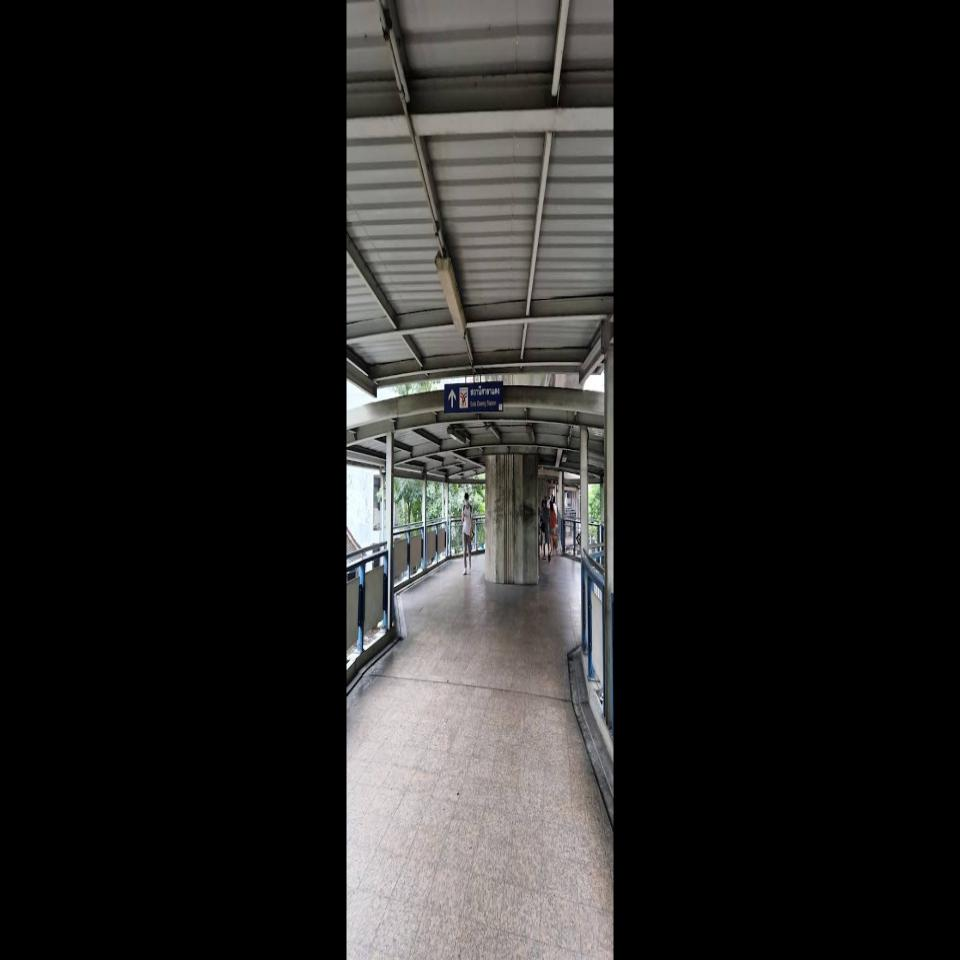signage: (459, 387, 500, 408)
